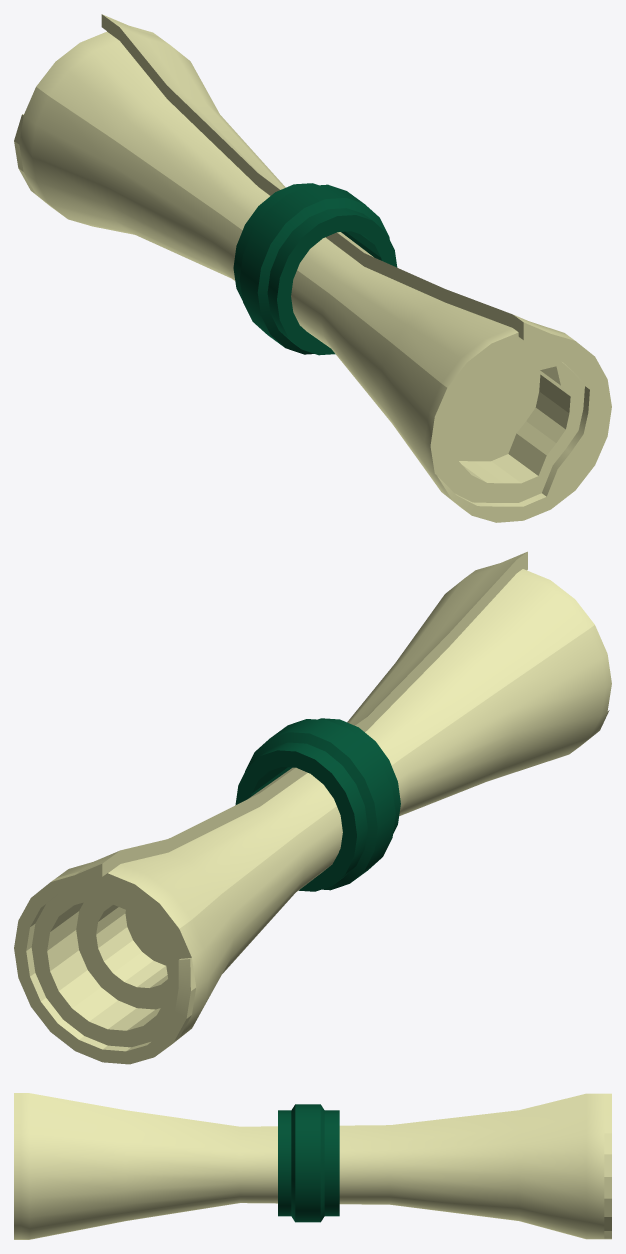
File: scroll1.fbx
3 views of the same model, one above another, from view 1: azimuth 30°, elevation 25°; view 2: azimuth 150°, elevation 25°; view 3: azimuth 270°, elevation 25° (orthographic). The views are drawn at different scales.
Visible parts, largest first — view 1: scroll4; view 2: scroll4; view 3: scroll4.
Part boxes in pixels (x1,y1,x2,y2): scroll4: [14, 14, 611, 522]; scroll4: [14, 551, 611, 1064]; scroll4: [14, 1093, 611, 1239].
Size of the model in its own units: 1.39 by 1.49 by 5.75.
